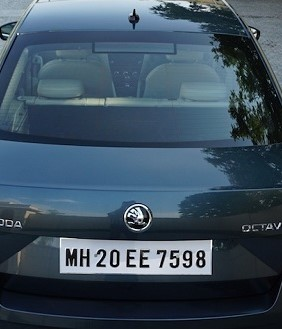MH20EE7598: (59, 237, 212, 274)
